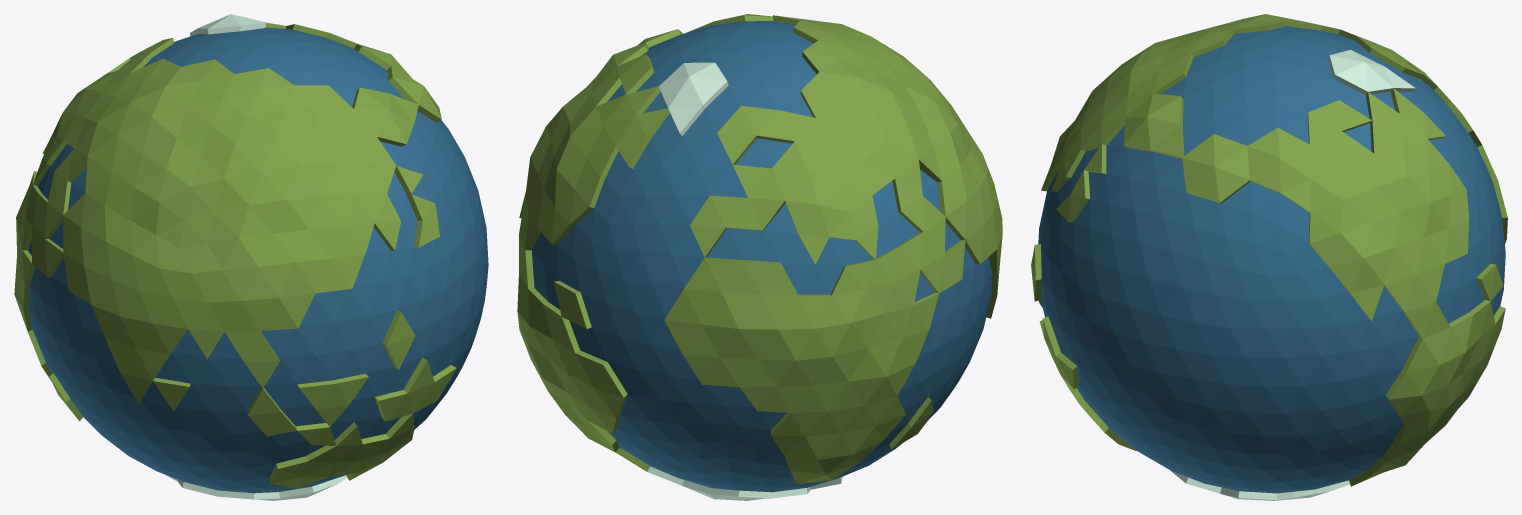
3 renders of one model, left to right at view 1: azimuth 30°, elevation 25°; view 2: azimuth 150°, elevation 25°; view 3: azimuth 270°, elevation 25°, orthographic.
Visible parts, largest first — view 1: URF-Height; view 2: URF-Height; view 3: URF-Height.
Part boxes in pixels (x1=…): URF-Height: x1=14, y1=14, x2=488, y2=500; URF-Height: x1=517, y1=14, x2=1002, y2=500; URF-Height: x1=1031, y1=14, x2=1507, y2=500.
Size of the model in its own units: 201 by 206 by 203.
